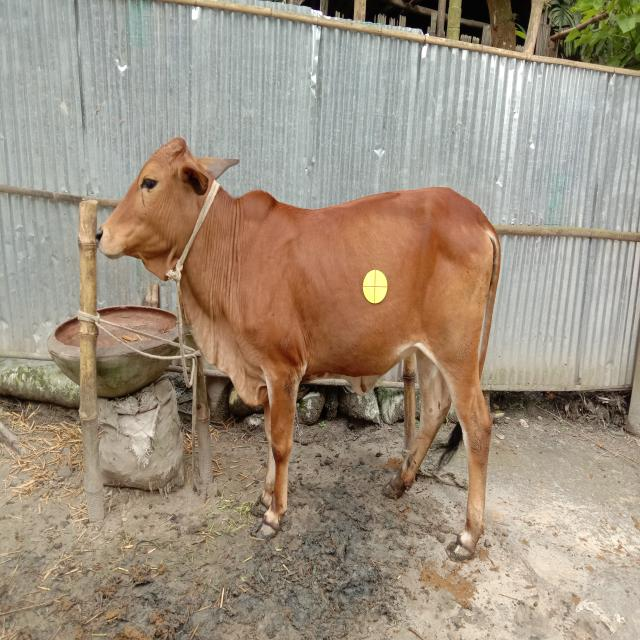badan_sapi: (237, 207, 502, 383)
sapi: (90, 113, 522, 578)
